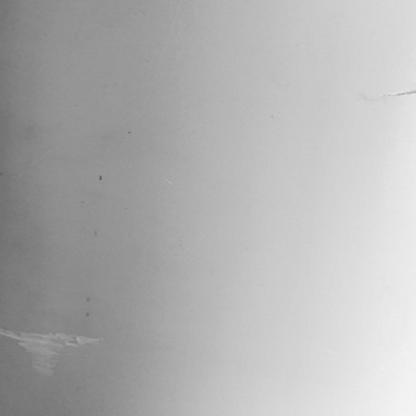sunshang: (1, 326, 98, 375), (376, 86, 416, 99)
